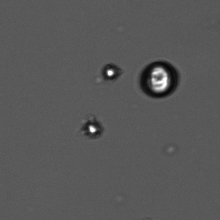Living Cell: (139, 55, 181, 105), (78, 117, 110, 141), (99, 57, 119, 88)
